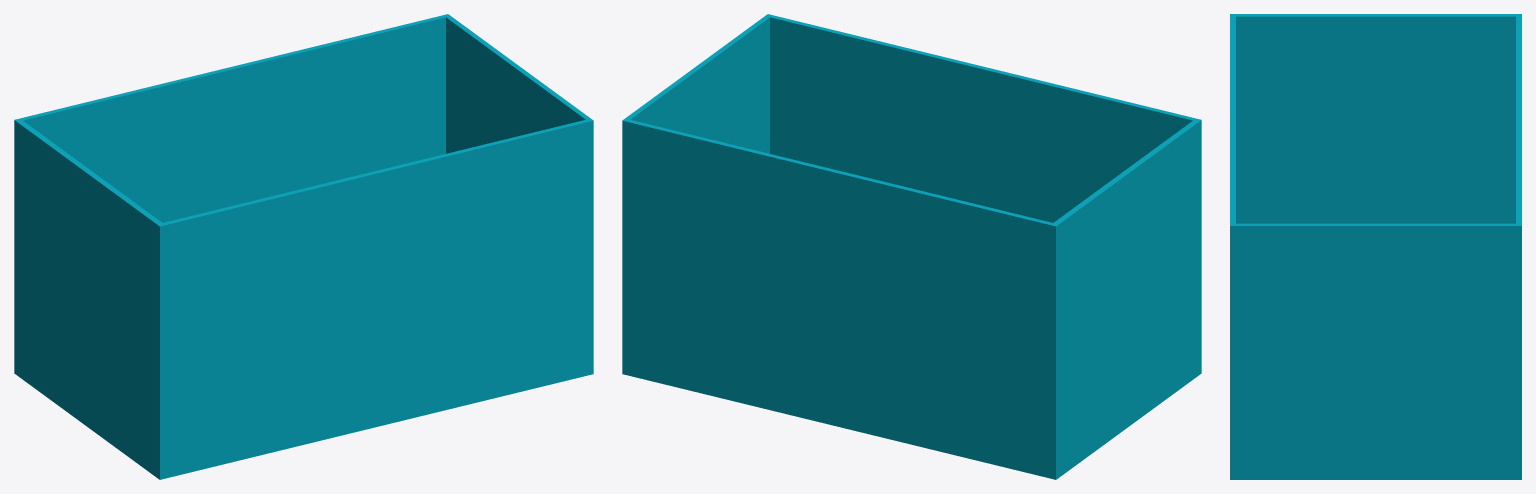
The model's file is Boxnew.glb.
3 views of the same model, side by side, from view 1: azimuth 30°, elevation 25°; view 2: azimuth 150°, elevation 25°; view 3: azimuth 270°, elevation 25° (orthographic).
Visible parts, largest first — view 1: Mesh_Mesh_head_geo.001_lambert2SG.001; view 2: Mesh_Mesh_head_geo.001_lambert2SG.001; view 3: Mesh_Mesh_head_geo.001_lambert2SG.001.
Part boxes in pixels (box(x1,y1,x2,y2)): Mesh_Mesh_head_geo.001_lambert2SG.001: box(14, 14, 593, 479); Mesh_Mesh_head_geo.001_lambert2SG.001: box(622, 14, 1201, 479); Mesh_Mesh_head_geo.001_lambert2SG.001: box(1230, 14, 1521, 479).
Bounding box in the file's own units: 0.043 × 0.024 × 0.025.
